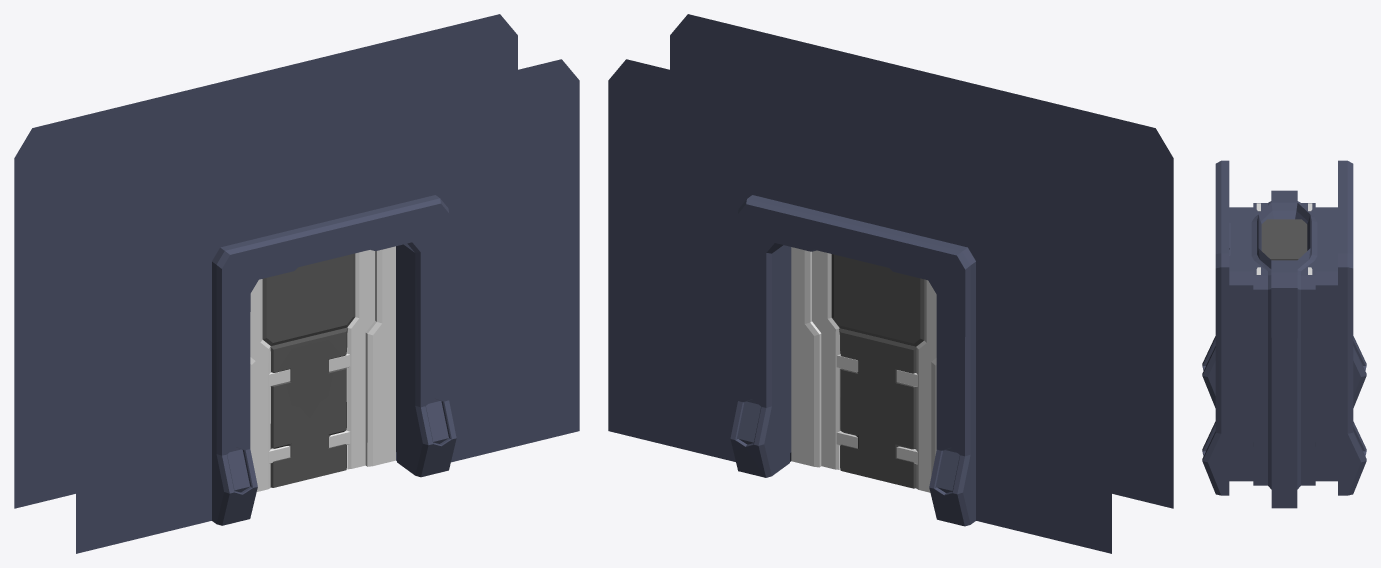
The model's file is PuertasAnimadas.fbx.
The picture shows the model from 3 angles, left to right: view 1: azimuth 30°, elevation 25°; view 2: azimuth 150°, elevation 25°; view 3: azimuth 270°, elevation 25°; orthographic projection. The views are drawn at different scales.
Visible parts, largest first — view 1: FramePuerta_009, PuertaP1_009, PuertaP3_009, PuertaP4_009, PuertaP2_009; view 2: FramePuerta_009, PuertaP1_009, PuertaP3_009, PuertaP4_009, PuertaP2_009; view 3: FramePuerta_009, PuertaP4_009.
Part boxes in pixels (x1,y1,x2,y2): FramePuerta_009: (14, 14, 579, 553); PuertaP1_009: (329, 246, 395, 469); PuertaP3_009: (270, 327, 347, 487); PuertaP4_009: (262, 253, 355, 345); PuertaP2_009: (250, 279, 290, 491); FramePuerta_009: (608, 14, 1173, 553); PuertaP1_009: (791, 247, 858, 469); PuertaP3_009: (839, 328, 917, 488); PuertaP4_009: (831, 254, 924, 346); PuertaP2_009: (896, 279, 936, 492); FramePuerta_009: (1202, 160, 1366, 508); PuertaP4_009: (1261, 219, 1307, 260).
Bounding box in the file's own units: 653 × 491 × 209.
